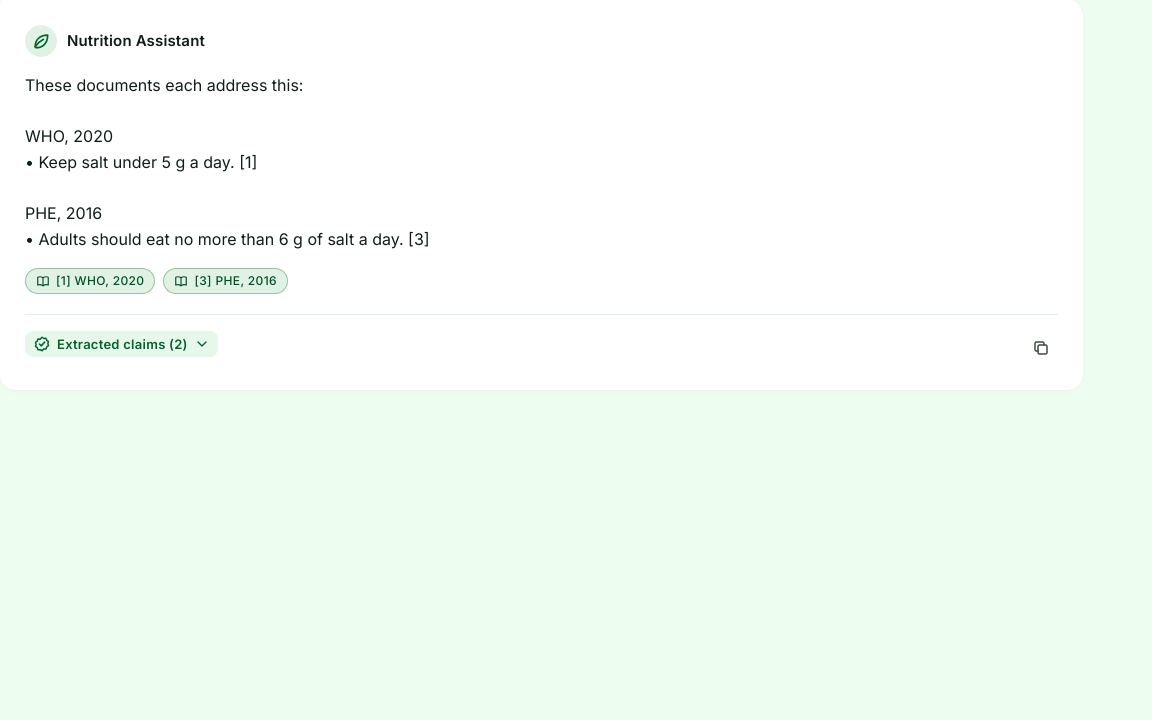
Test: MessageBubble › replaces the Unverified badge with chips in the claims list
The image size is (1152, 720).
Click the button "Extracted claims (2)".
click(121, 344)  # box [25,331,218,357]
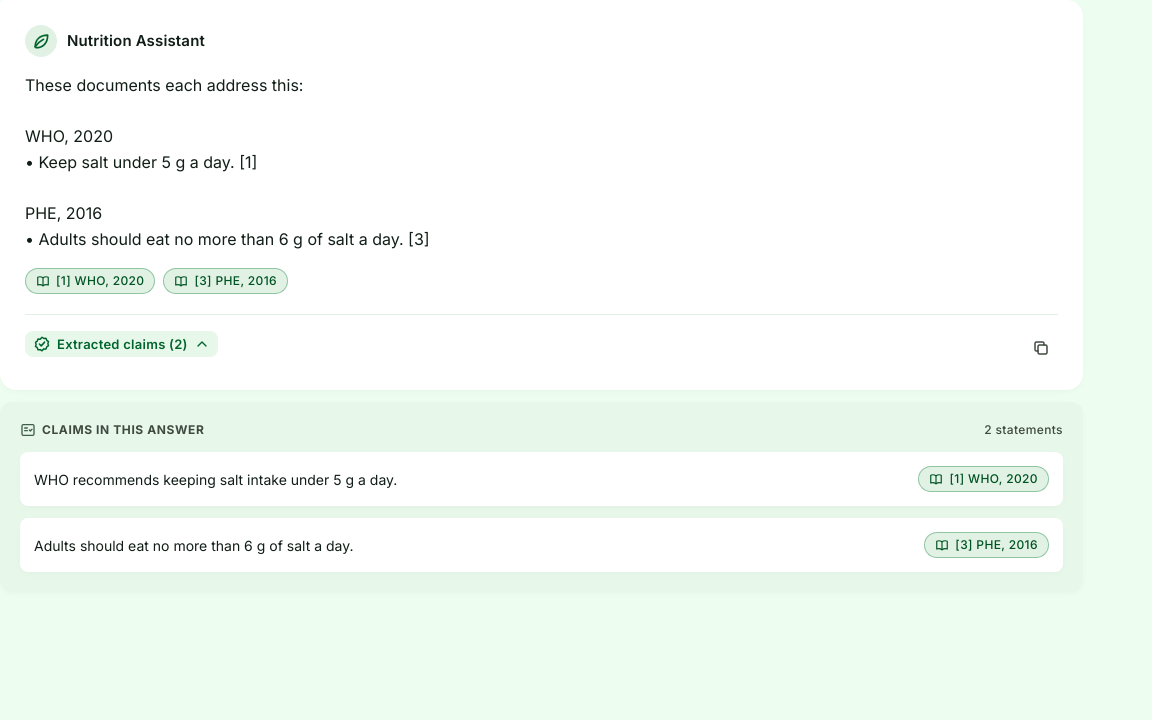
Check: the number of buttons named "Source [1] WHO, 2020" is 2, box [25,268,155,294]; [918,466,1049,492]
